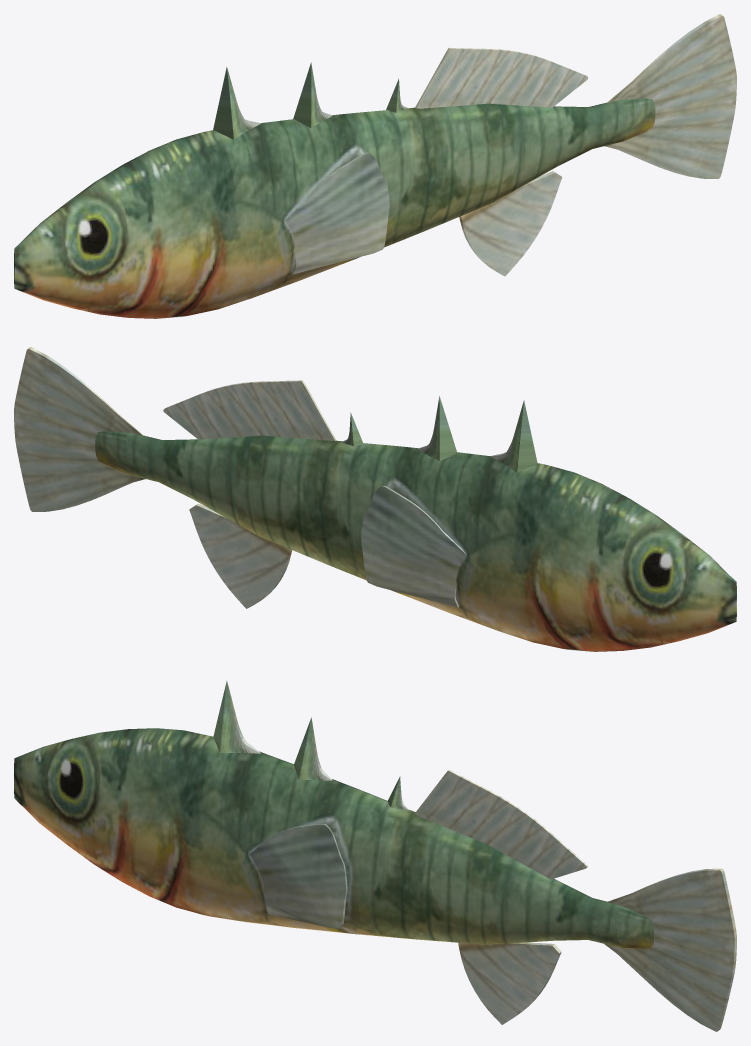
The model's file is three spined stickback.fbx.
The picture shows the model from 3 angles, top to bottom: view 1: azimuth 30°, elevation 25°; view 2: azimuth 150°, elevation 25°; view 3: azimuth 330°, elevation 25°; orthographic projection.
Parts seen in each view (by area): view 1: Line001, Line002, Line018, Line009, Line010, Line013, Line016; view 2: Line001, Line002, Line019, Line009, Line010, Line013, Line016; view 3: Line001, Line002, Line018, Line009, Line010, Line013, Line016.
Part boxes in pixels (<box>): Line001: <box>14,98,655,318</box>; Line002: <box>605,14,736,178</box>; Line018: <box>285,152,389,274</box>; Line009: <box>415,47,587,108</box>; Line010: <box>459,171,562,276</box>; Line013: <box>213,67,261,139</box>; Line016: <box>293,62,332,127</box>; Line001: <box>95,431,736,651</box>; Line002: <box>14,347,145,511</box>; Line019: <box>361,485,466,607</box>; Line009: <box>163,380,336,440</box>; Line010: <box>189,503,291,608</box>; Line013: <box>490,400,537,472</box>; Line016: <box>418,396,456,460</box>; Line001: <box>14,728,654,949</box>; Line002: <box>604,868,736,1031</box>; Line018: <box>249,824,347,928</box>; Line009: <box>414,769,587,879</box>; Line010: <box>458,942,561,1024</box>; Line013: <box>213,680,260,753</box>; Line016: <box>294,717,332,780</box>.
Bounding box in the file's own units: 1059 × 388 × 111.
Materials: 4 (4 with a texture image).
